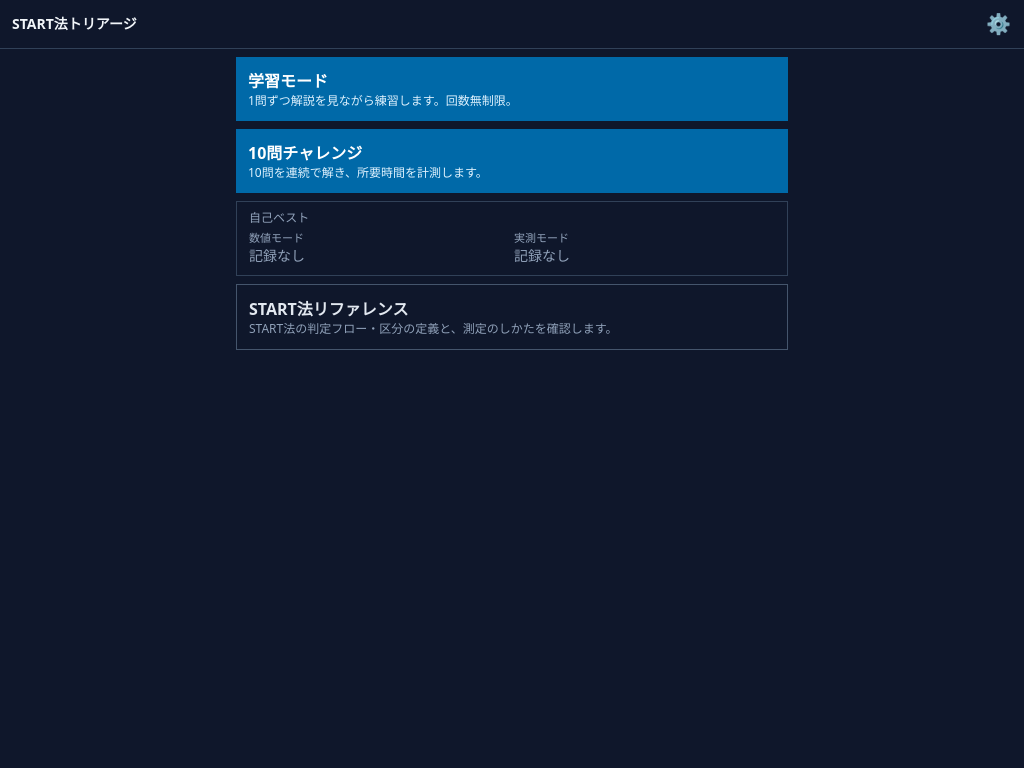
it: 免責の確認（SPEC §1.7） › 設定からいつでも読み直せる
The image size is (1024, 768).
Step 1. Click the button named "設定を開く" → click(998, 24), box [980,6,1016,42]
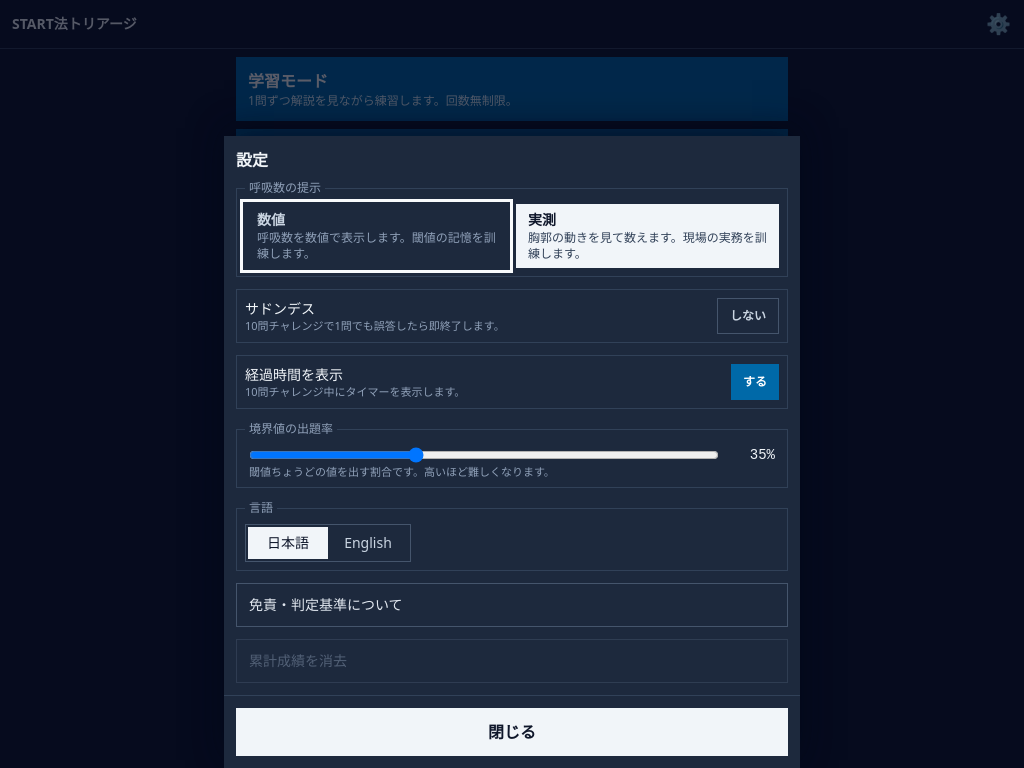
Step 2. Click the button "免責・判定基準について" → click(326, 604), box [236,583,788,627]
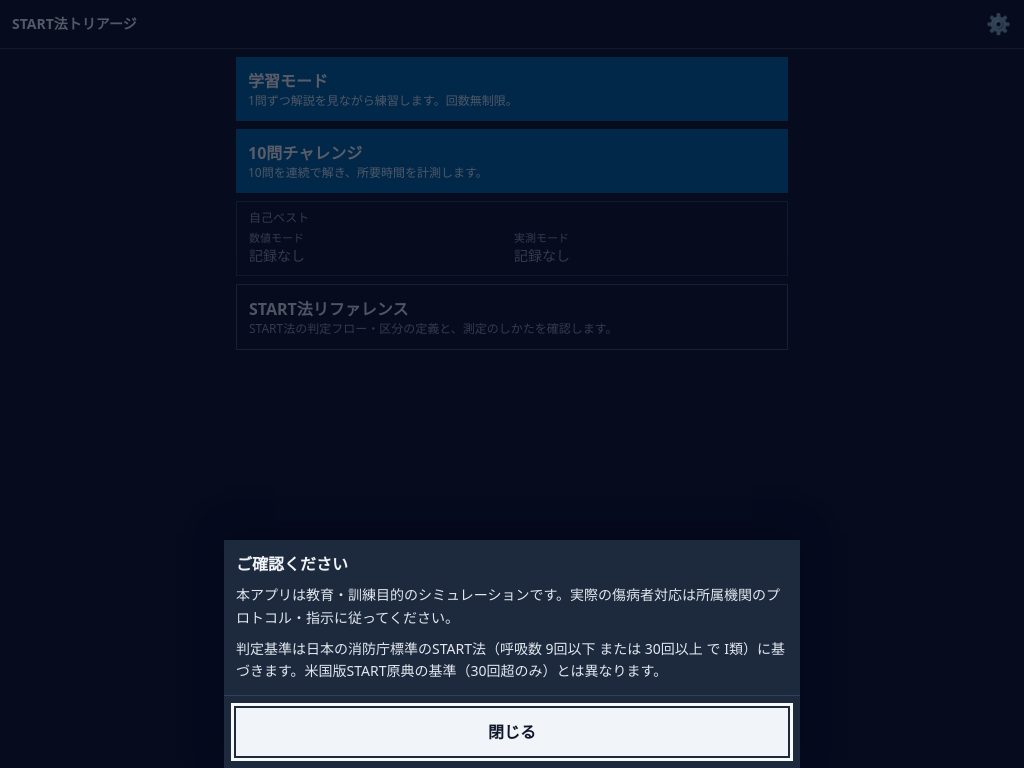
Check: the button "閉じる" is shown, box [236,708,788,756]
Check: the text "本アプリは教育・訓練目的のシミュレーションです。実際の傷病者対応は所属機関のプロトコル・指示に従ってください。" is shown, box [236,584,788,630]
